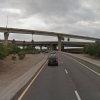Bridge: (2, 16, 92, 54)
